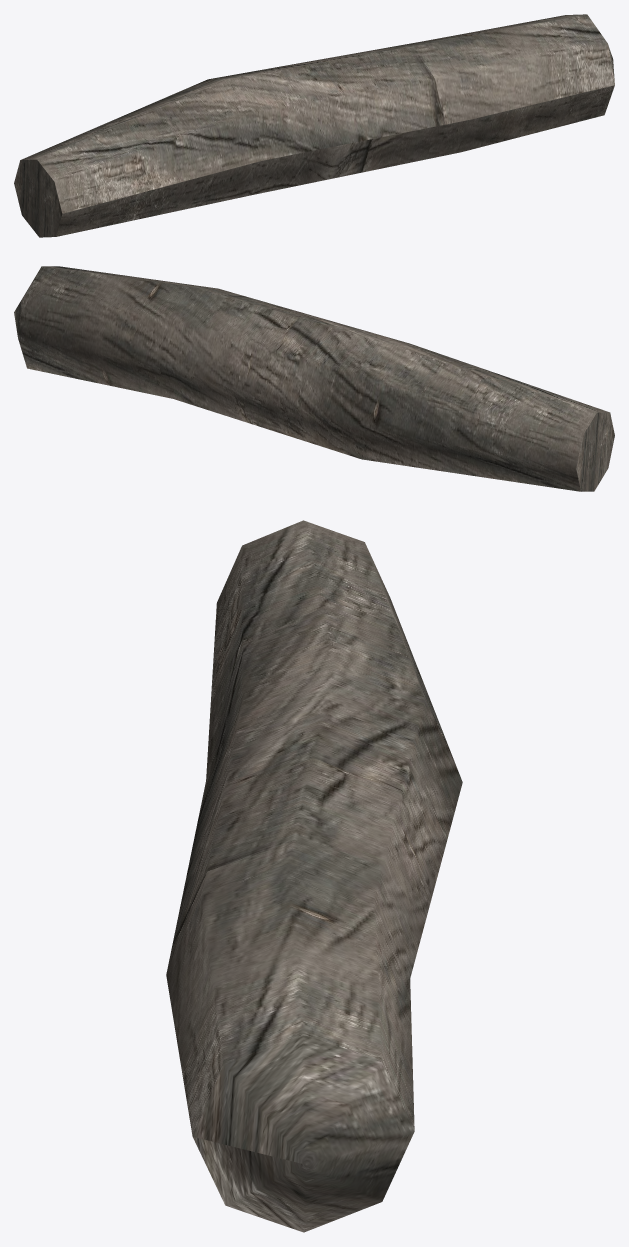
Rendered from sc_drift_billet.glb.
3 renders of one model, top to bottom at view 1: azimuth 30°, elevation 25°; view 2: azimuth 150°, elevation 25°; view 3: azimuth 270°, elevation 25°, orthographic. The views are drawn at different scales.
Parts seen in each view (by area): view 1: sc_drift_billet; view 2: sc_drift_billet; view 3: sc_drift_billet.
Boxes of the visible parts, x1,y1,x2,y2 form: sc_drift_billet: [14, 14, 614, 237]; sc_drift_billet: [14, 266, 614, 491]; sc_drift_billet: [166, 520, 462, 1232].
Size of the model in its own units: 0.8672 by 0.1667 by 0.1925.
1 material, 1 textured.
